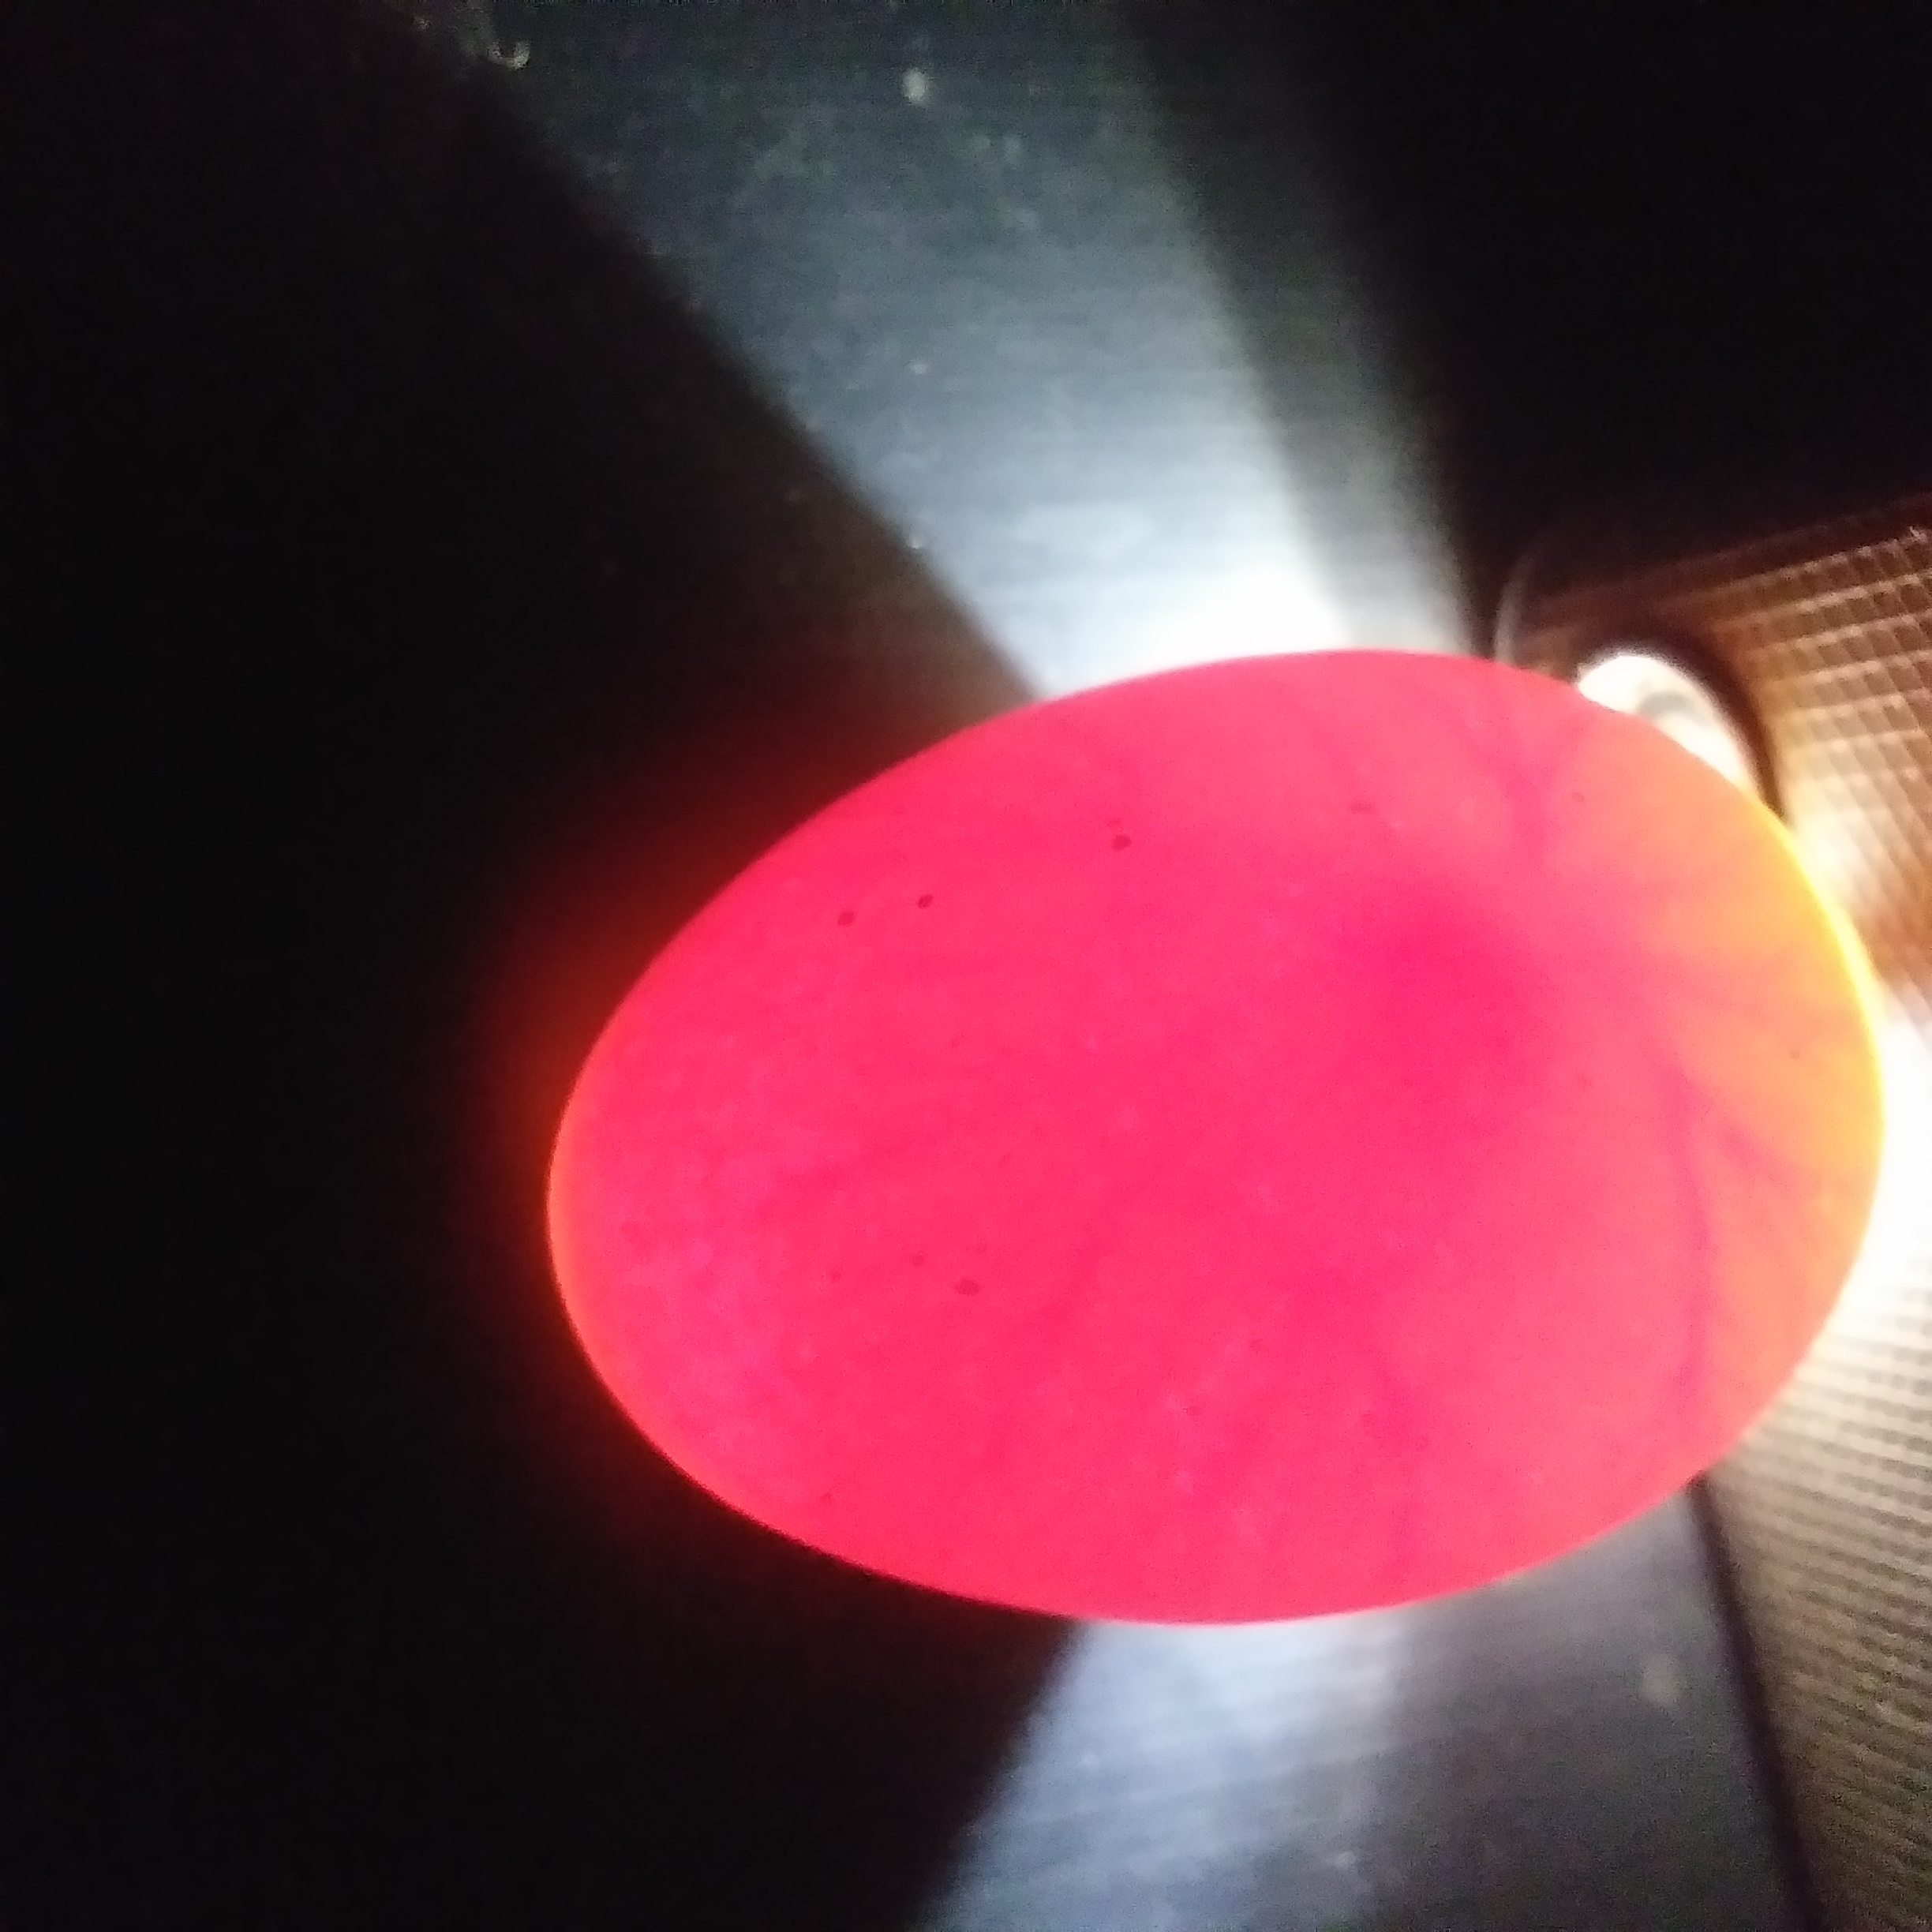bloodcell: (704, 1116, 1408, 1557), (1479, 713, 1759, 1389)
